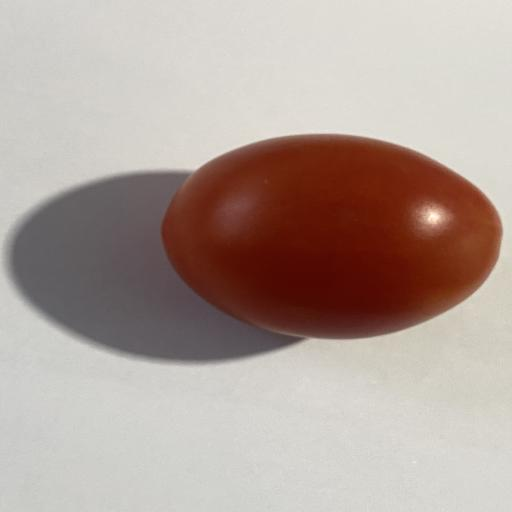ripe: (161, 135, 502, 338)
